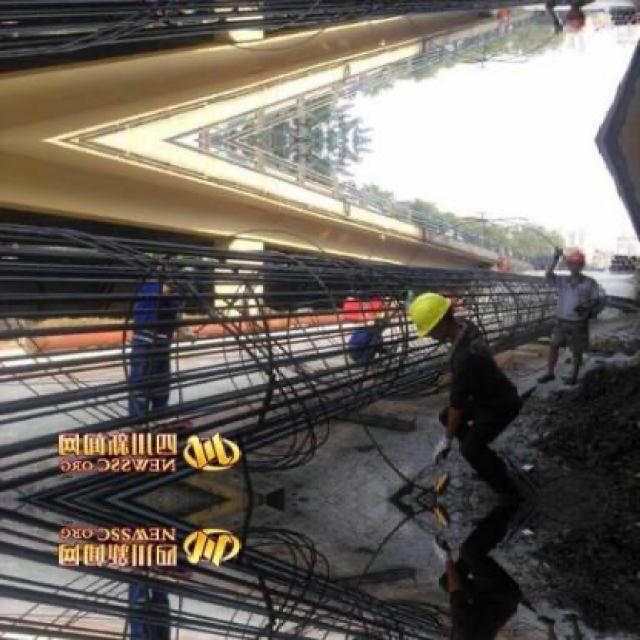helmet: (405, 290, 460, 341), (561, 244, 594, 278), (561, 3, 594, 37)
